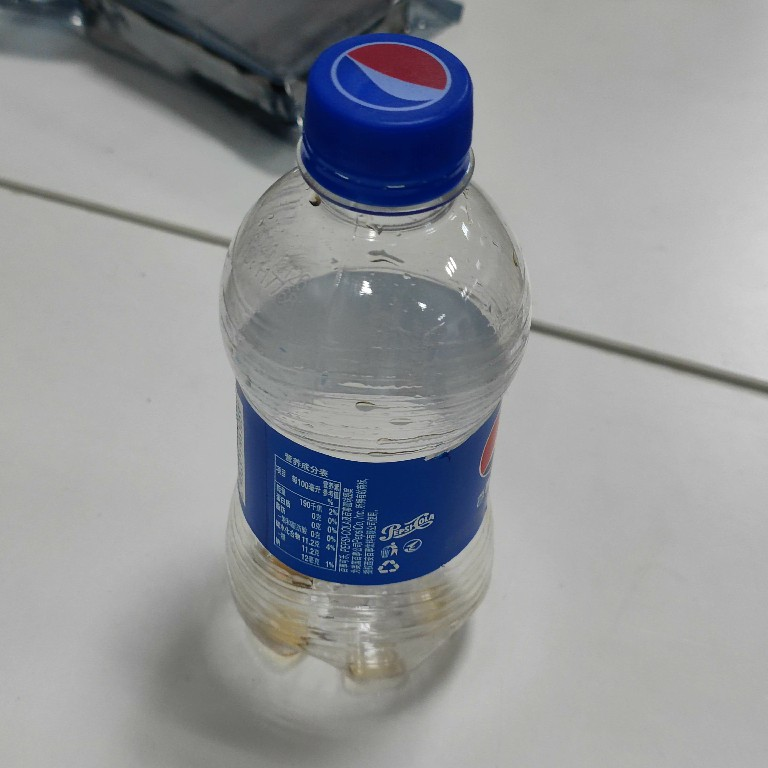bottle: (216, 30, 533, 688)
